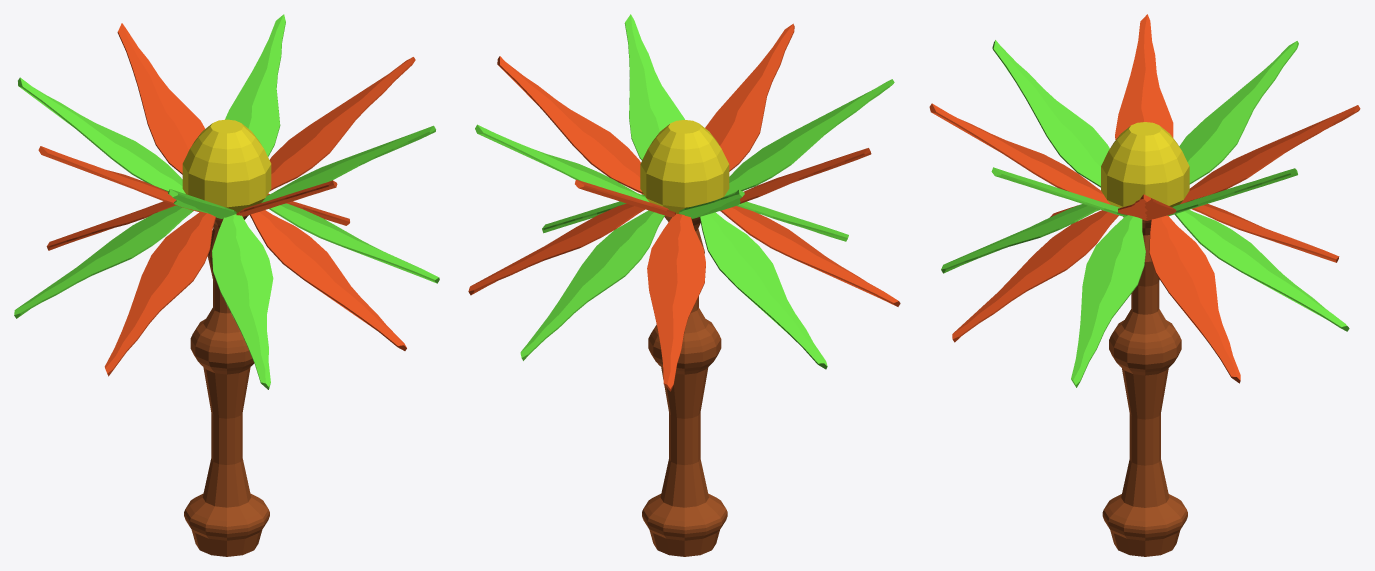
Rendered from Kwaki Tree.fbx.
The picture shows the model from 3 angles, left to right: view 1: azimuth 30°, elevation 25°; view 2: azimuth 150°, elevation 25°; view 3: azimuth 270°, elevation 25°; orthographic projection.
Visible parts, largest first — view 1: Cylinder.007, Plane.071, Plane.073, Plane.092, Plane.059, Plane.062, Plane.065, Plane.069, Plane.064, Plane.072, Plane.067, Plane.063 (+3 smaller); view 2: Cylinder.007, Plane.075, Plane.069, Plane.068, Plane.062, Plane.061, Plane.067, Plane.066, Plane.073, Plane.074, Plane.064, Plane.063 (+4 smaller); view 3: Cylinder.007, Plane.072, Plane.074, Plane.066, Plane.065, Plane.092, Plane.068, Plane.063, Plane.059, Plane.061, Plane.071, Plane.075 (+3 smaller).
Part boxes in pixels (left/top/right/bottom): Cylinder.007: left=182, top=119, right=271, bottom=556; Plane.071: left=212, top=214, right=273, bottom=389; Plane.073: left=104, top=211, right=215, bottom=376; Plane.092: left=250, top=210, right=406, bottom=350; Plane.059: left=117, top=23, right=204, bottom=174; Plane.062: left=269, top=57, right=415, bottom=191; Plane.065: left=18, top=77, right=185, bottom=193; Plane.069: left=14, top=205, right=193, bottom=318; Plane.064: left=225, top=14, right=285, bottom=156; Plane.072: left=269, top=203, right=439, bottom=283; Plane.067: left=261, top=125, right=435, bottom=202; Plane.063: left=38, top=146, right=200, bottom=212; Cylinder.007: left=640, top=120, right=729, bottom=556; Plane.075: left=647, top=213, right=705, bottom=391; Plane.069: left=699, top=212, right=827, bottom=369; Plane.068: left=520, top=210, right=664, bottom=360; Plane.062: left=497, top=56, right=643, bottom=194; Plane.061: left=705, top=23, right=794, bottom=171; Plane.067: left=624, top=14, right=684, bottom=160; Plane.066: left=725, top=79, right=894, bottom=195; Plane.073: left=720, top=206, right=900, bottom=306; Plane.074: left=468, top=203, right=645, bottom=295; Plane.064: left=475, top=124, right=649, bottom=202; Plane.063: left=740, top=148, right=871, bottom=203; Cylinder.007: left=1101, top=122, right=1189, bottom=556; Plane.072: left=1071, top=215, right=1145, bottom=387; Plane.074: left=1149, top=215, right=1240, bottom=383; Plane.066: left=992, top=40, right=1109, bottom=187; Plane.065: left=1179, top=41, right=1298, bottom=184; Plane.092: left=952, top=210, right=1118, bottom=342; Plane.068: left=1174, top=209, right=1349, bottom=331; Plane.063: left=1115, top=14, right=1173, bottom=139; Plane.059: left=1180, top=105, right=1360, bottom=204; Plane.061: left=929, top=103, right=1110, bottom=204; Plane.071: left=941, top=204, right=1099, bottom=273; Plane.075: left=1191, top=204, right=1339, bottom=262.
Size of the model in its own units: 1184 by 1333 by 1184.
